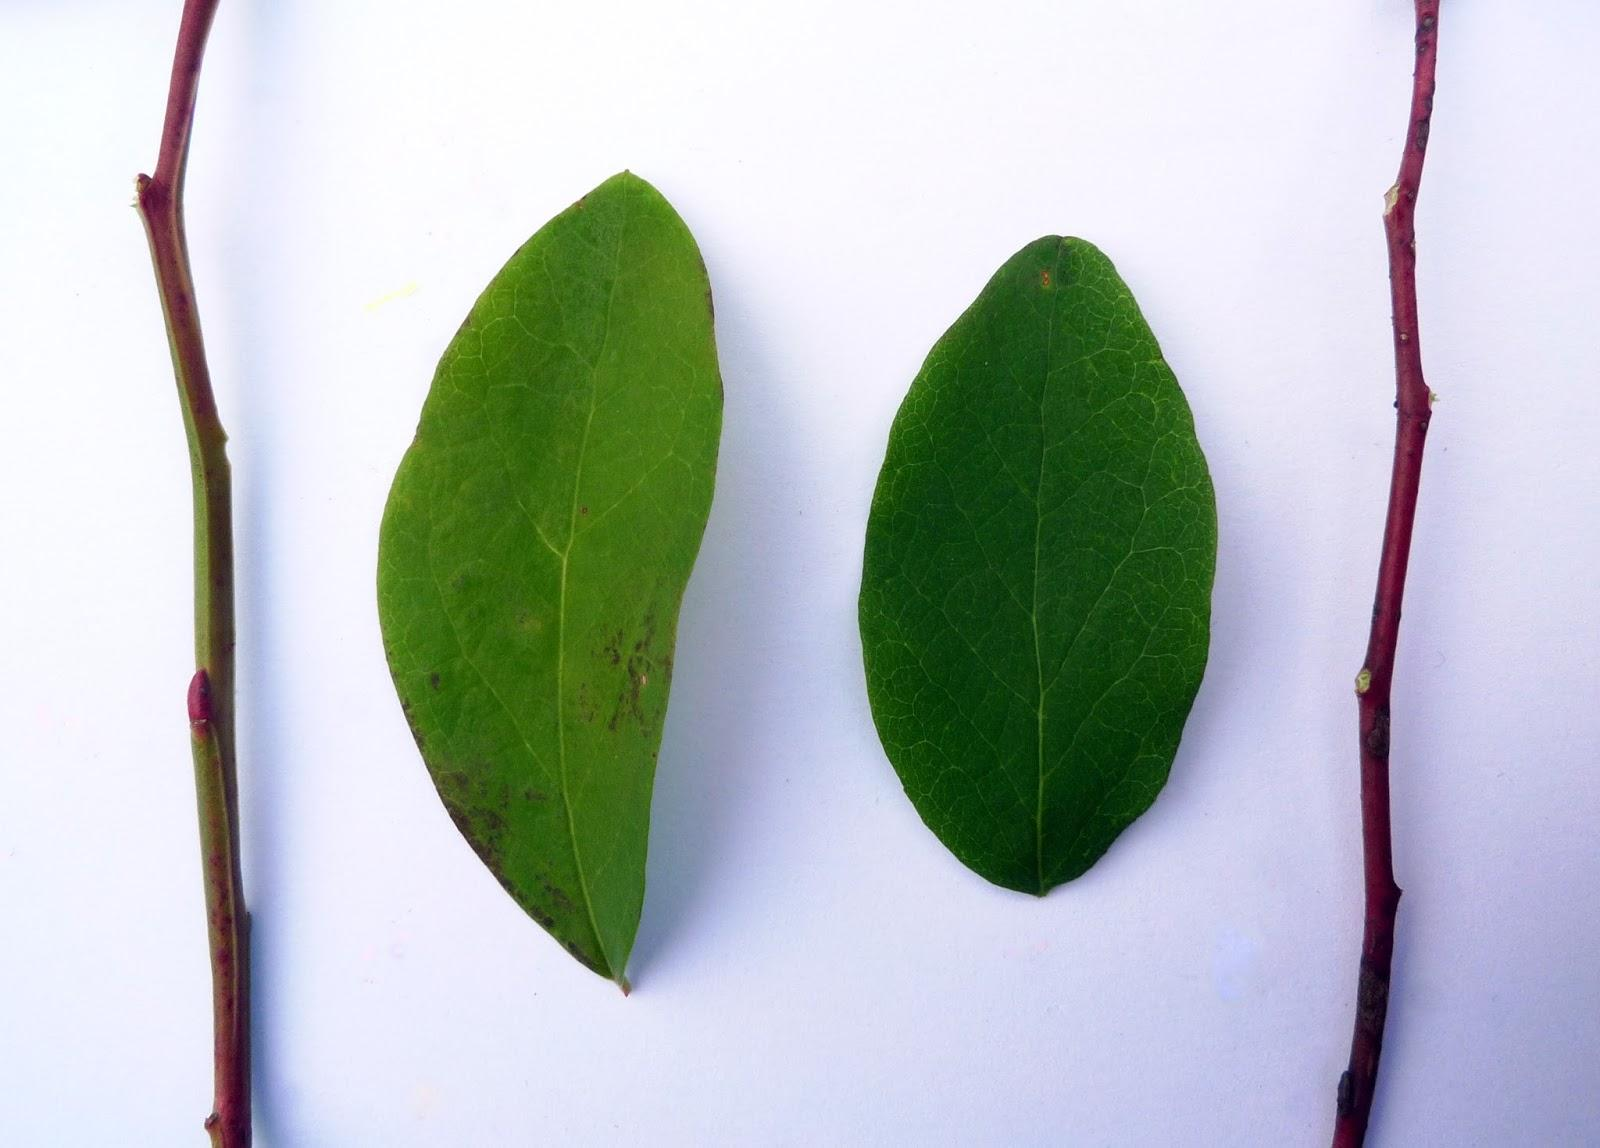Blueberry leaf: (365, 163, 754, 1019), (840, 216, 1239, 948)
